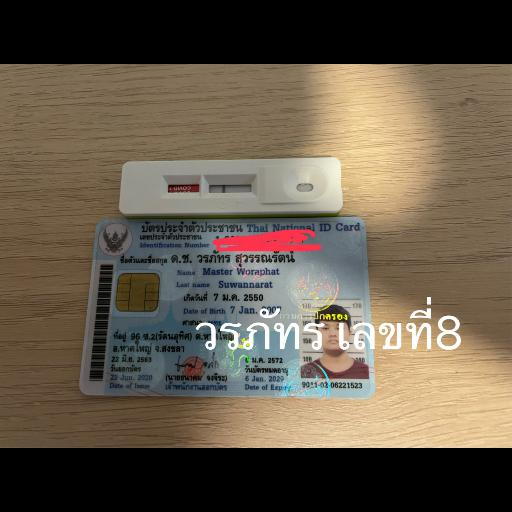Neg: (119, 158, 341, 210)
